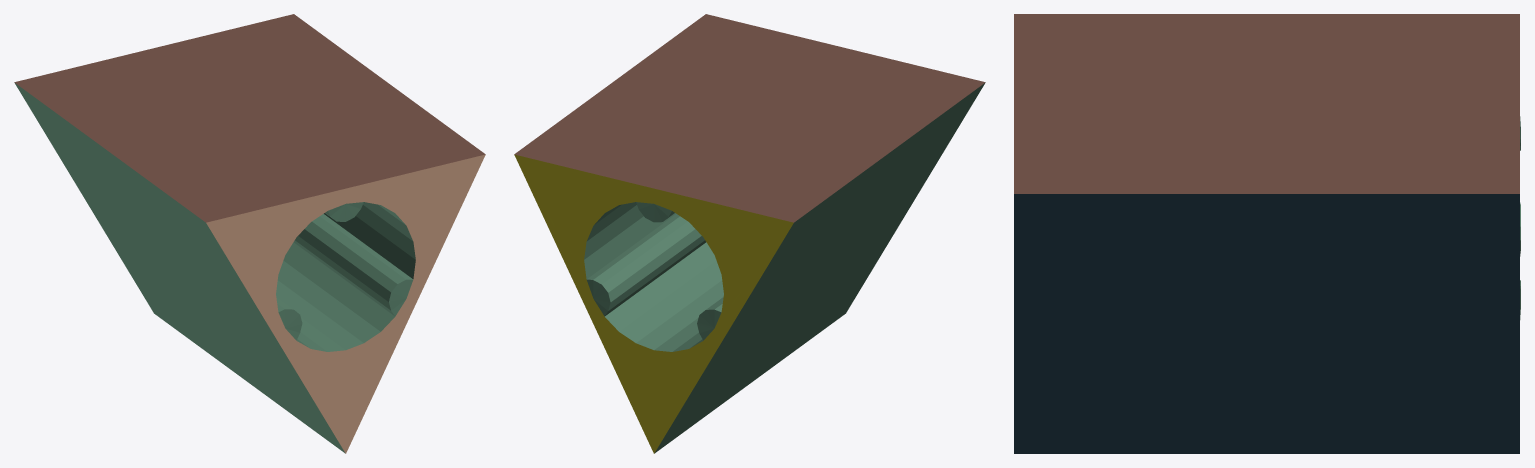
Rendered from donut.fbx.
The picture shows the model from 3 angles, left to right: view 1: azimuth 30°, elevation 25°; view 2: azimuth 150°, elevation 25°; view 3: azimuth 270°, elevation 25°; orthographic projection. The views are drawn at different scales.
Parts seen in each view (by area): view 1: Doughnut1.004, Doughnut1.002, Doughnut1; view 2: Doughnut1.004, Doughnut1.002, Doughnut1.003; view 3: Doughnut1.001, Doughnut1.004.
Boxes of the visible parts, box(x1,y1,x2,y2) form: Doughnut1.004: box(14, 14, 485, 222); Doughnut1.002: box(14, 82, 415, 453); Doughnut1: box(206, 154, 485, 453); Doughnut1.004: box(514, 14, 985, 222); Doughnut1.002: box(584, 82, 985, 453); Doughnut1.003: box(514, 154, 793, 453); Doughnut1.001: box(1014, 194, 1519, 453); Doughnut1.004: box(1014, 14, 1519, 193).
Bounding box in the file's own units: 160 × 145 × 190.
